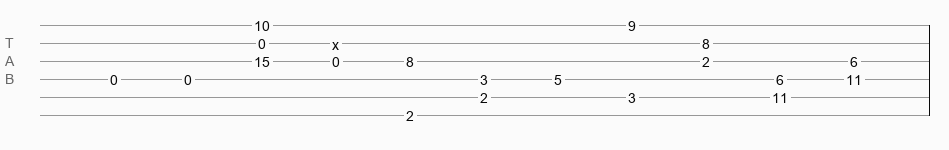0: (110, 72, 118, 82), (184, 72, 192, 82), (258, 36, 266, 46), (332, 54, 340, 64)
10: (254, 18, 270, 28)
11: (772, 90, 788, 100), (846, 72, 862, 82)
15: (254, 54, 270, 64)
2: (406, 108, 414, 118), (480, 90, 488, 100), (702, 54, 710, 64)
3: (480, 72, 488, 82), (628, 90, 636, 100)
5: (554, 72, 562, 82)
6: (776, 72, 784, 82), (850, 54, 858, 64)
8: (406, 54, 414, 64), (702, 36, 710, 46)
9: (628, 18, 636, 28)
x: (332, 37, 339, 45)
